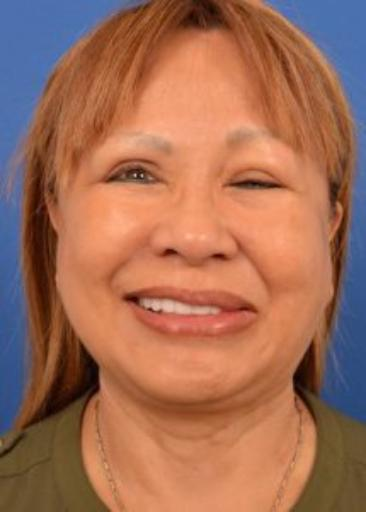left_eye: (225, 176, 285, 197)
left_lip_corner: (245, 302, 260, 322)
right_eye: (105, 162, 167, 189)
right_lip_corner: (118, 291, 138, 310)
